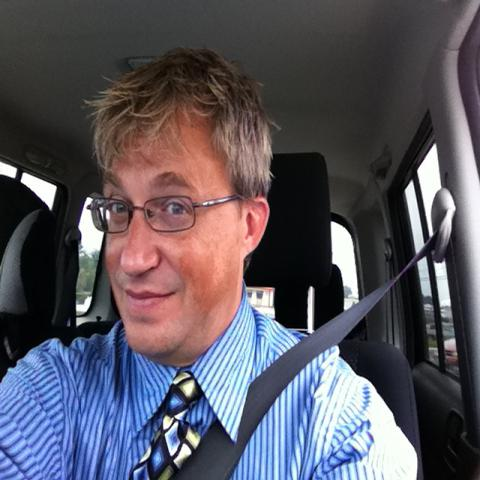car: (426, 322, 455, 341)
